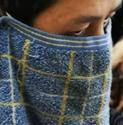with_mask: (2, 1, 123, 125)
